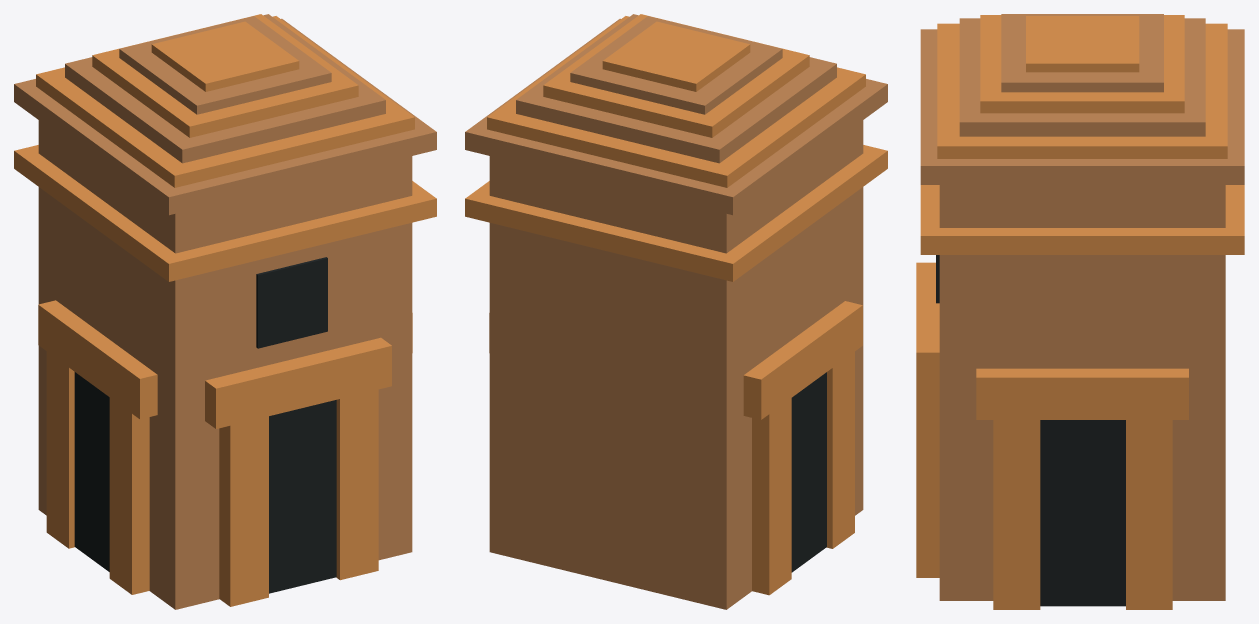
Rendered from wall-end.fbx.
3 renders of one model, left to right at view 1: azimuth 30°, elevation 25°; view 2: azimuth 150°, elevation 25°; view 3: azimuth 270°, elevation 25°, orthographic. The views are drawn at different scales.
Visible parts, largest first — view 1: Cube.026, Cube.027, Cube.028, Cube.039, Cube.029, Cube.030, Cube.034, Cube.036, Cube.035, Cube.058, Cube.031, Cube.056 (+5 smaller); view 2: Cube.026, Cube.027, Cube.028, Cube.029, Cube.030, Cube.031, Cube.059, Cube.056, Cube.057, Cube.033, Cube.032, Cube.058; view 3: Cube.026, Cube.054, Cube.028, Cube.029, Cube.027, Cube.055, Cube.030, Cube.053, Cube.052, Cube.031, Cube.032, Cube.033 (+2 smaller).
Part boxes in pixels (x1,y1,x2,y2): Cube.026: [38, 120, 412, 609]; Cube.027: [14, 145, 436, 281]; Cube.028: [14, 18, 436, 215]; Cube.039: [269, 400, 336, 593]; Cube.029: [36, 16, 414, 187]; Cube.030: [65, 14, 385, 163]; Cube.034: [219, 416, 268, 606]; Cube.036: [205, 337, 391, 428]; Cube.035: [336, 366, 378, 580]; Cube.058: [109, 376, 149, 594]; Cube.031: [92, 14, 358, 137]; Cube.056: [38, 300, 157, 419]; Cube.026: [489, 120, 863, 609]; Cube.027: [465, 145, 887, 281]; Cube.028: [465, 18, 887, 215]; Cube.029: [487, 16, 865, 187]; Cube.030: [516, 14, 836, 163]; Cube.031: [543, 14, 809, 137]; Cube.059: [752, 398, 791, 595]; Cube.056: [743, 301, 862, 419]; Cube.057: [791, 372, 826, 572]; Cube.033: [602, 21, 750, 91]; Cube.032: [570, 16, 782, 114]; Cube.058: [826, 328, 854, 548]; Cube.026: [939, 185, 1225, 600]; Cube.054: [1040, 420, 1125, 606]; Cube.028: [920, 29, 1244, 184]; Cube.029: [937, 23, 1227, 158]; Cube.027: [920, 185, 1244, 254]; Cube.055: [976, 368, 1188, 419]; Cube.030: [959, 18, 1205, 136]; Cube.053: [1126, 396, 1172, 609]; Cube.052: [993, 420, 1040, 609]; Cube.031: [980, 15, 1184, 113]; Cube.032: [1001, 14, 1163, 92]; Cube.033: [1026, 16, 1139, 72].
Size of the model in its own units: 230 by 386 by 229.
